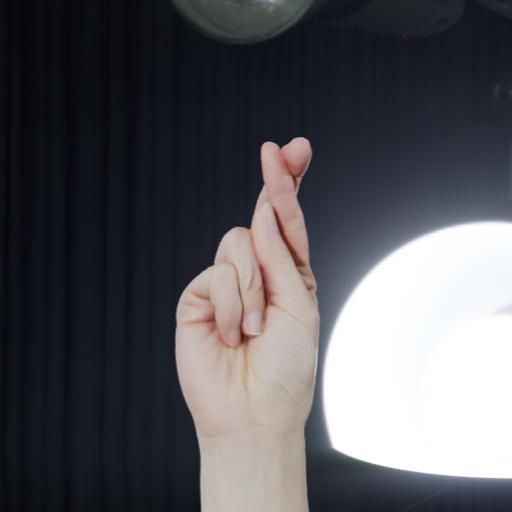R: (155, 132, 334, 508)
